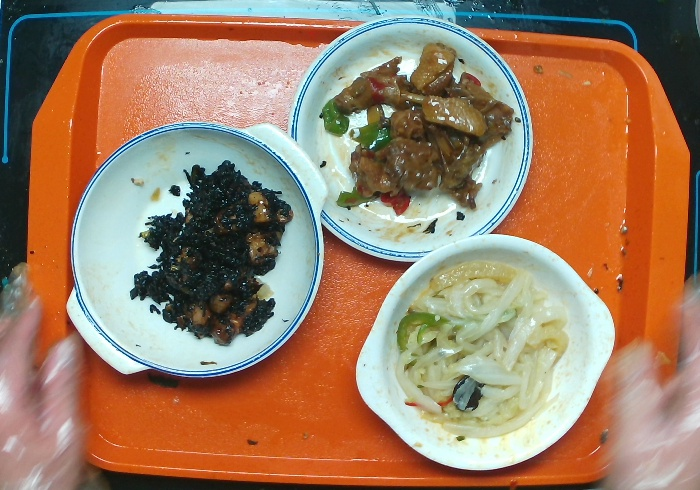HZYJPL-Dai_Er_Bai_Yuan_Wan: (356, 233, 620, 474)
HZYJPL-Lan_Bian_Dai_Er_Wan: (66, 115, 324, 374)
HZYJPL-Lan_Bian_Yuan_Die: (287, 20, 544, 265)
